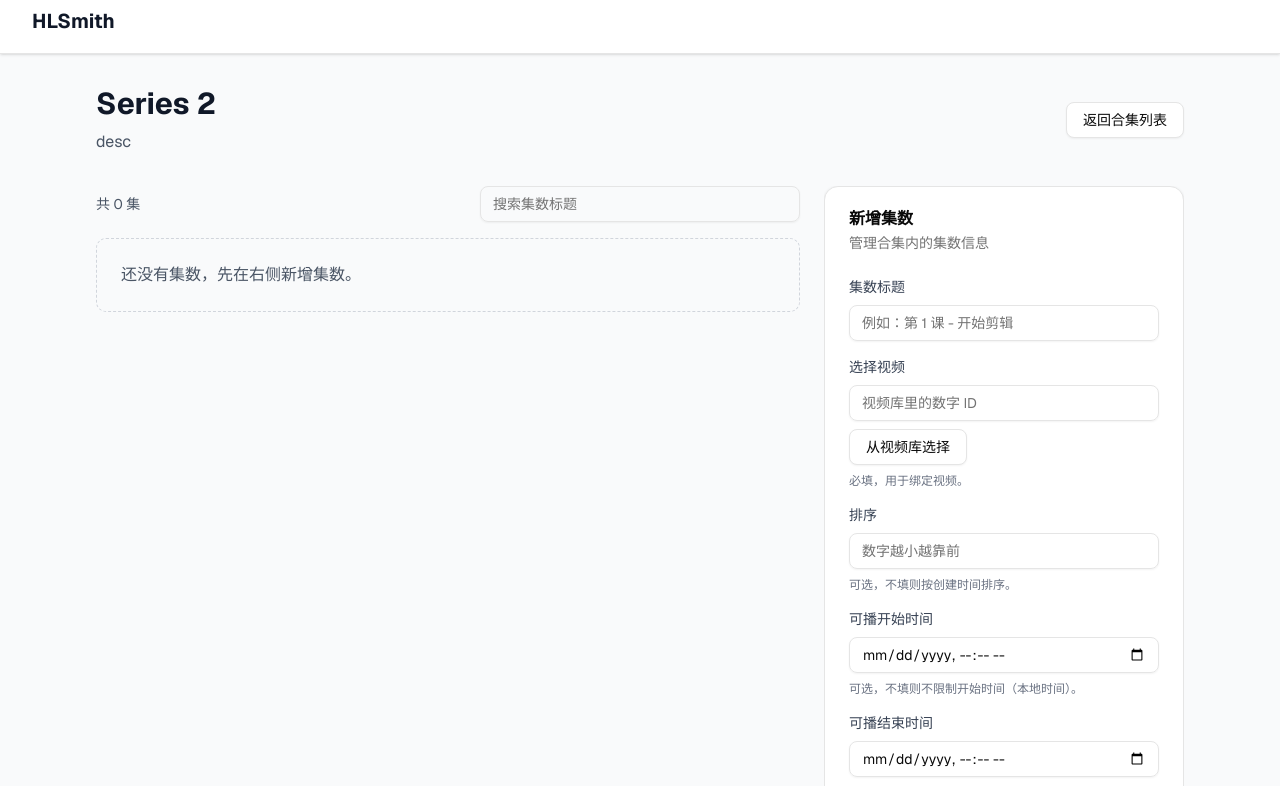
Test: CollectionDetailPage › creates collection item successfully
Expected: the heading "Series 2" is shown, [96, 86, 216, 122]
Type "Episode New" into the field labelled "集数标题" at (1004, 323), box [849, 305, 1159, 341]
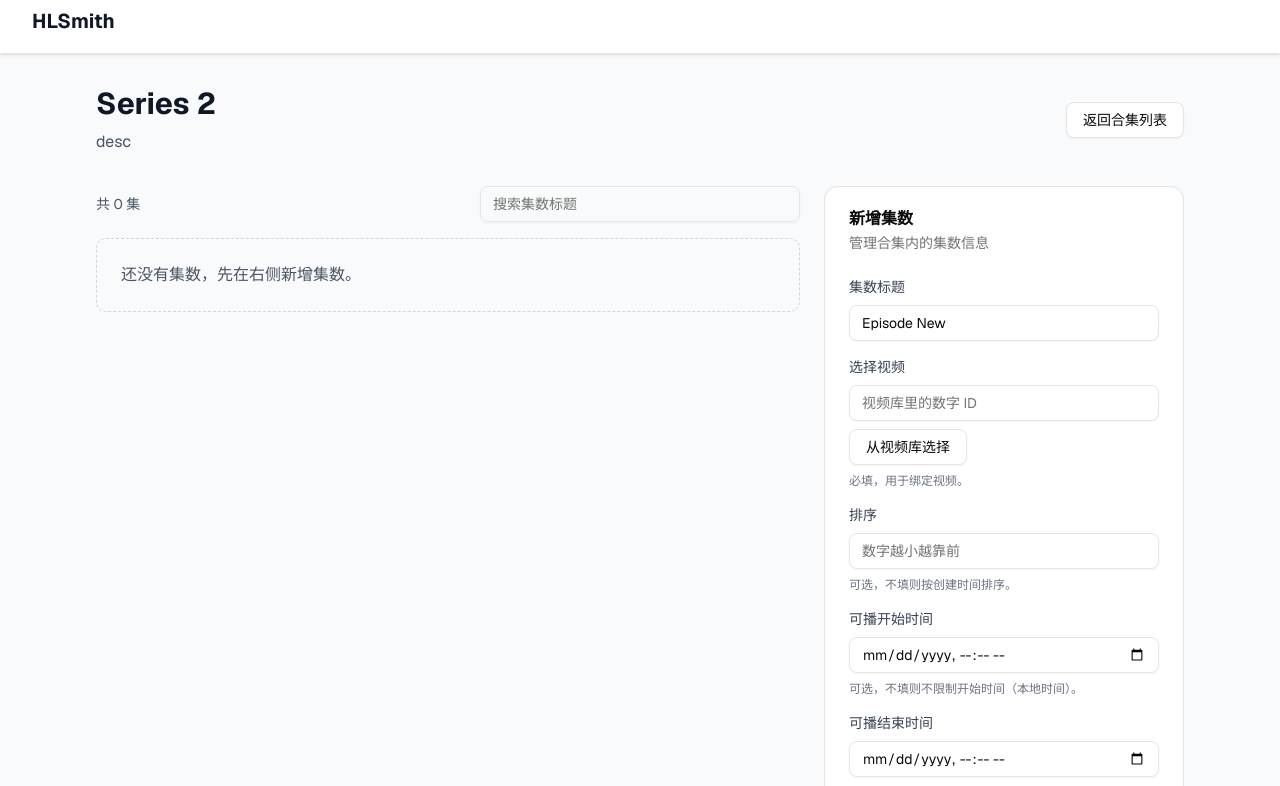
Type "10" into the number field labelled "选择视频" at (1004, 403), box [849, 385, 1159, 421]
(page scrolled)
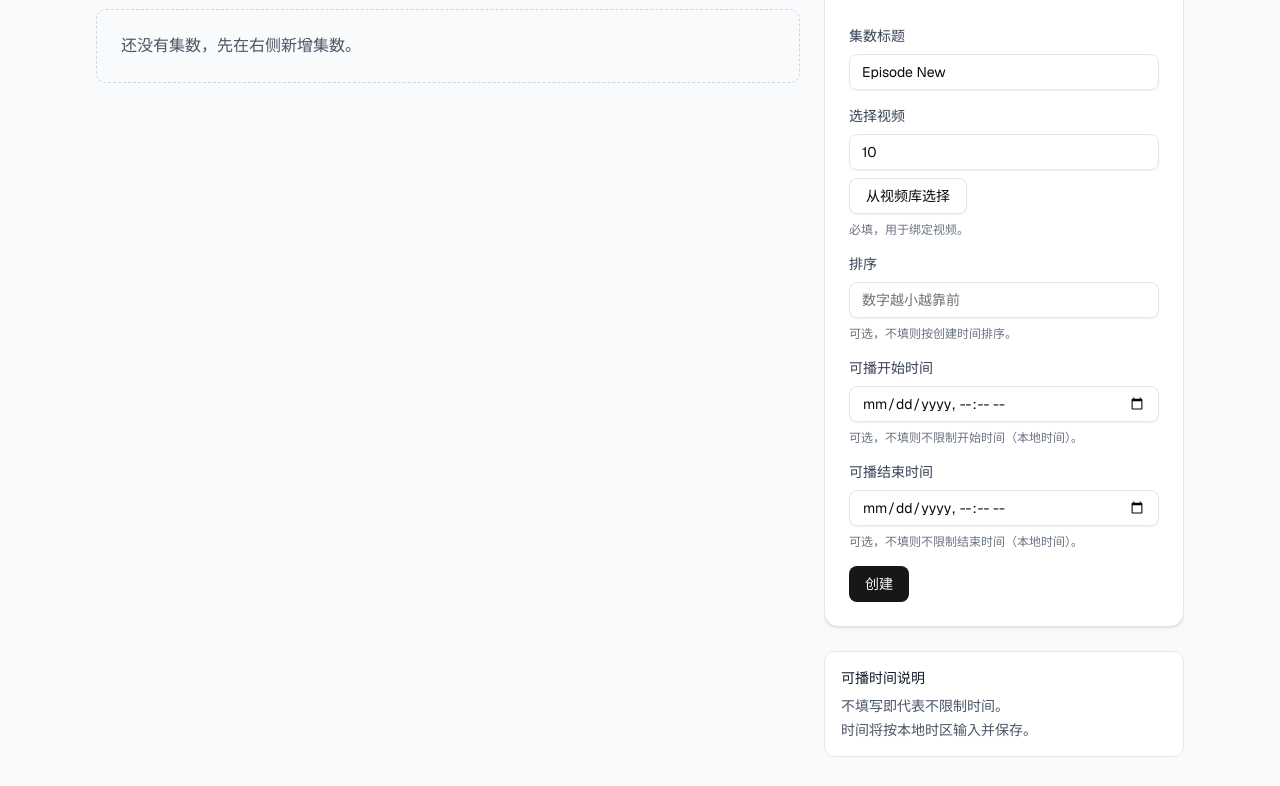
Click the button "创建" at (879, 584), box [849, 566, 909, 602]
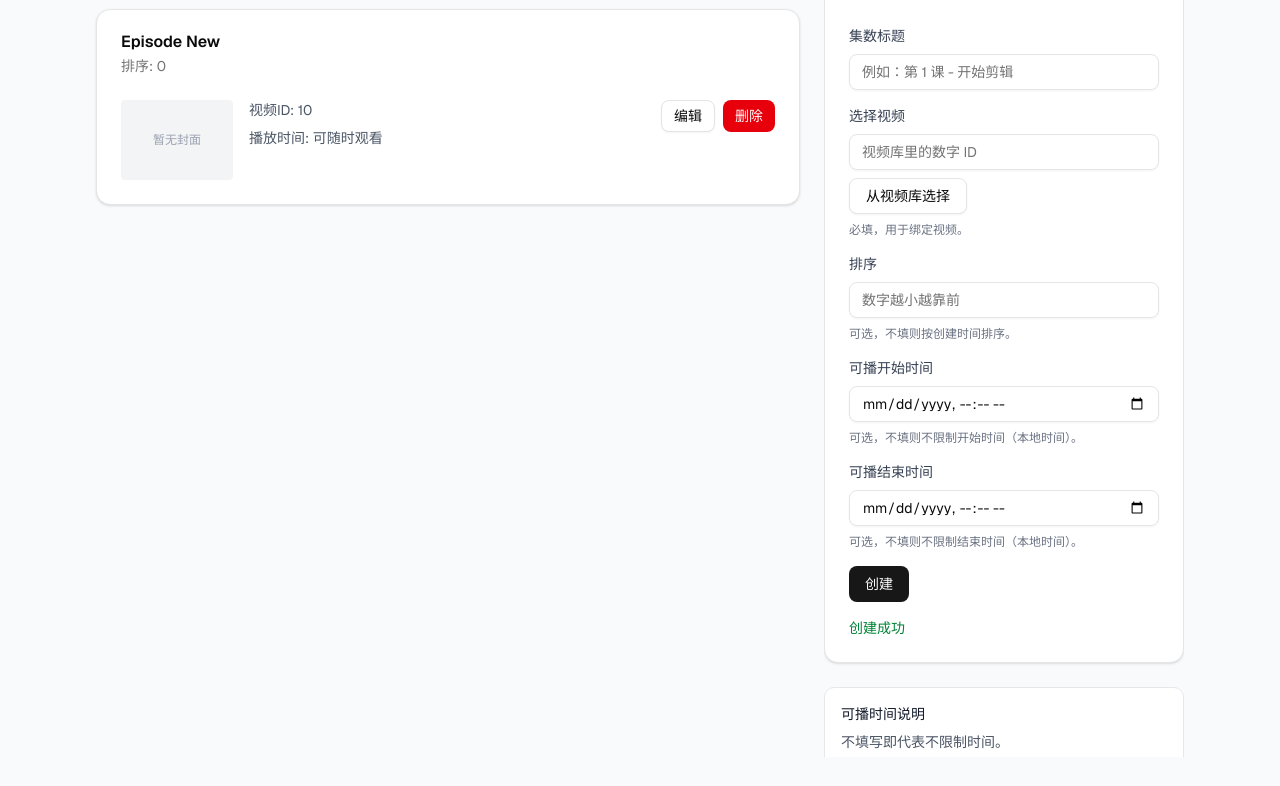
Expected: the text "创建成功" is shown, [849, 619, 905, 637]
Expected: the text "Episode New" is shown, [121, 31, 220, 52]
